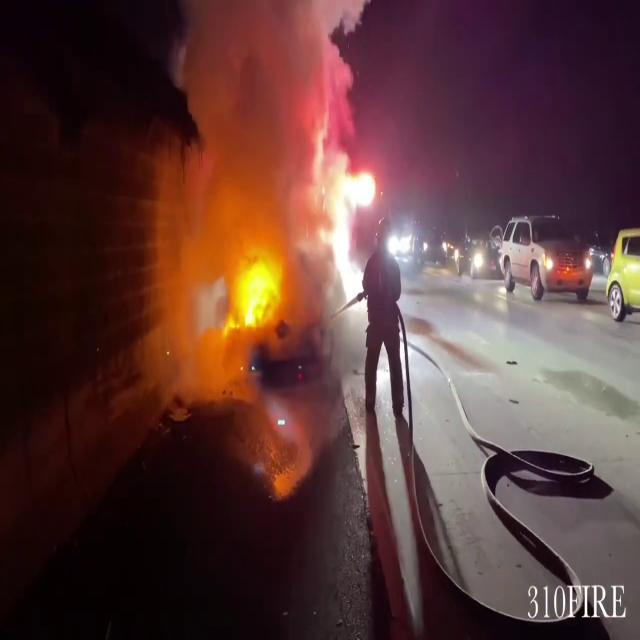Fire: (221, 248, 282, 336)
Smoke: (168, 0, 370, 239)
